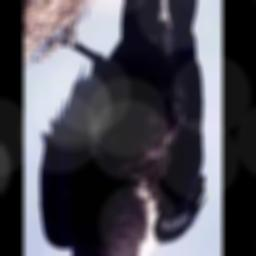Crow: (35, 0, 209, 256)
